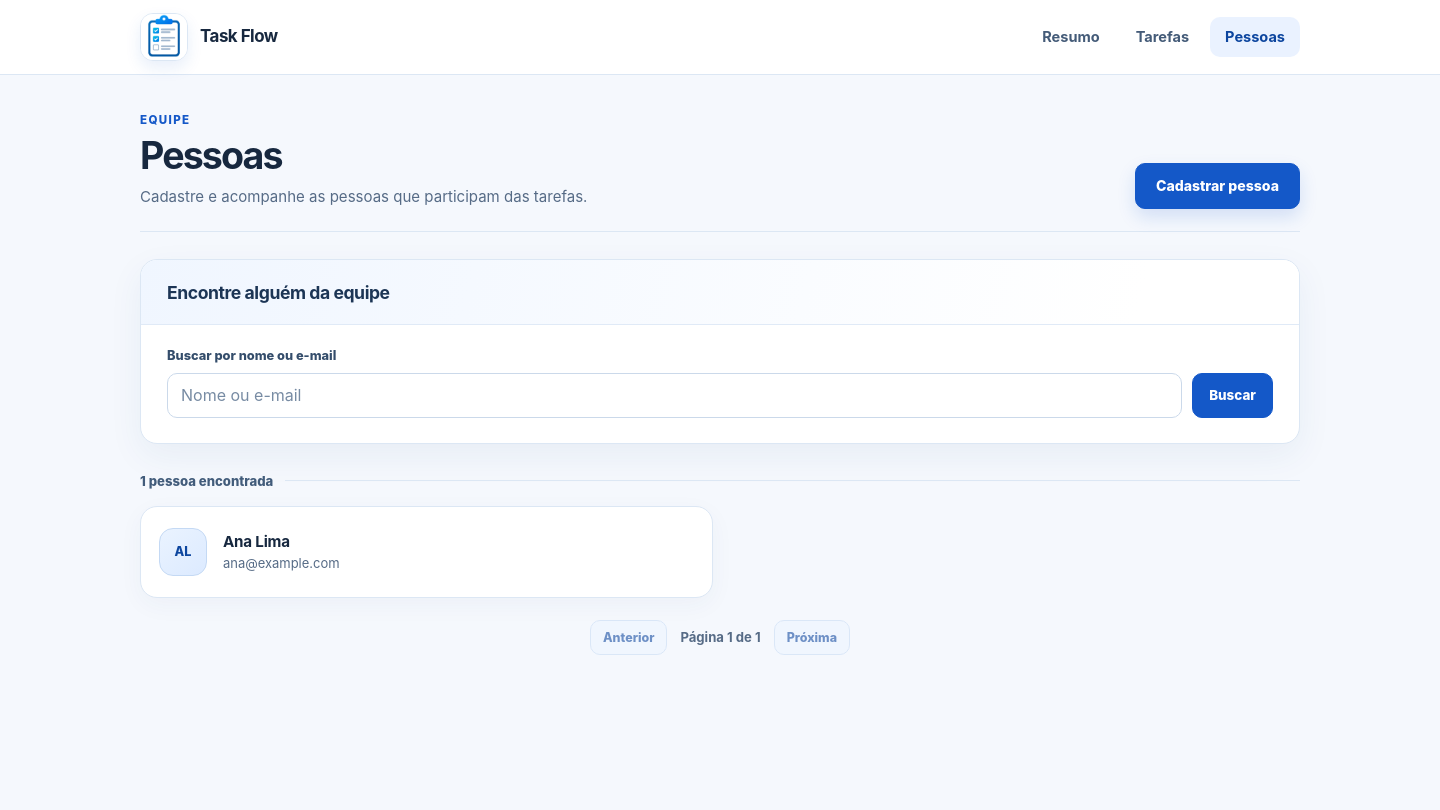
Test: diretório mantém cadastro recolhido até pedido e atualiza busca após criação
Expected: the text "ana@example.com" is shown, 223,555 -> 340,571
Expected: the field labelled "Nome completo" is not shown
Click the button "Cadastrar pessoa". click: (1217, 186)
box: 1135,163 -> 1300,209
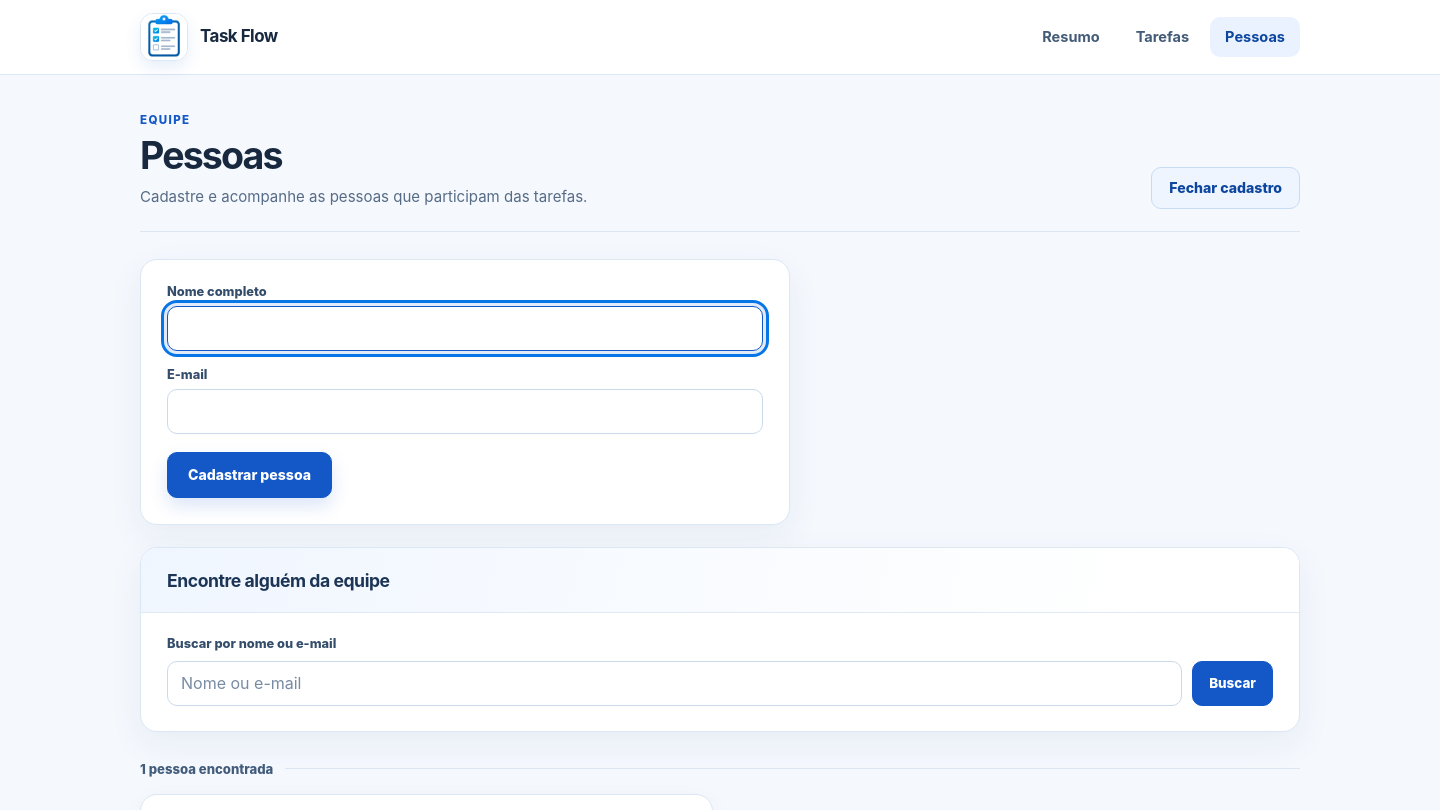
Type "Bruno Silva" into the field labelled "Nome completo". click: (465, 328)
box: 167,306 -> 763,351
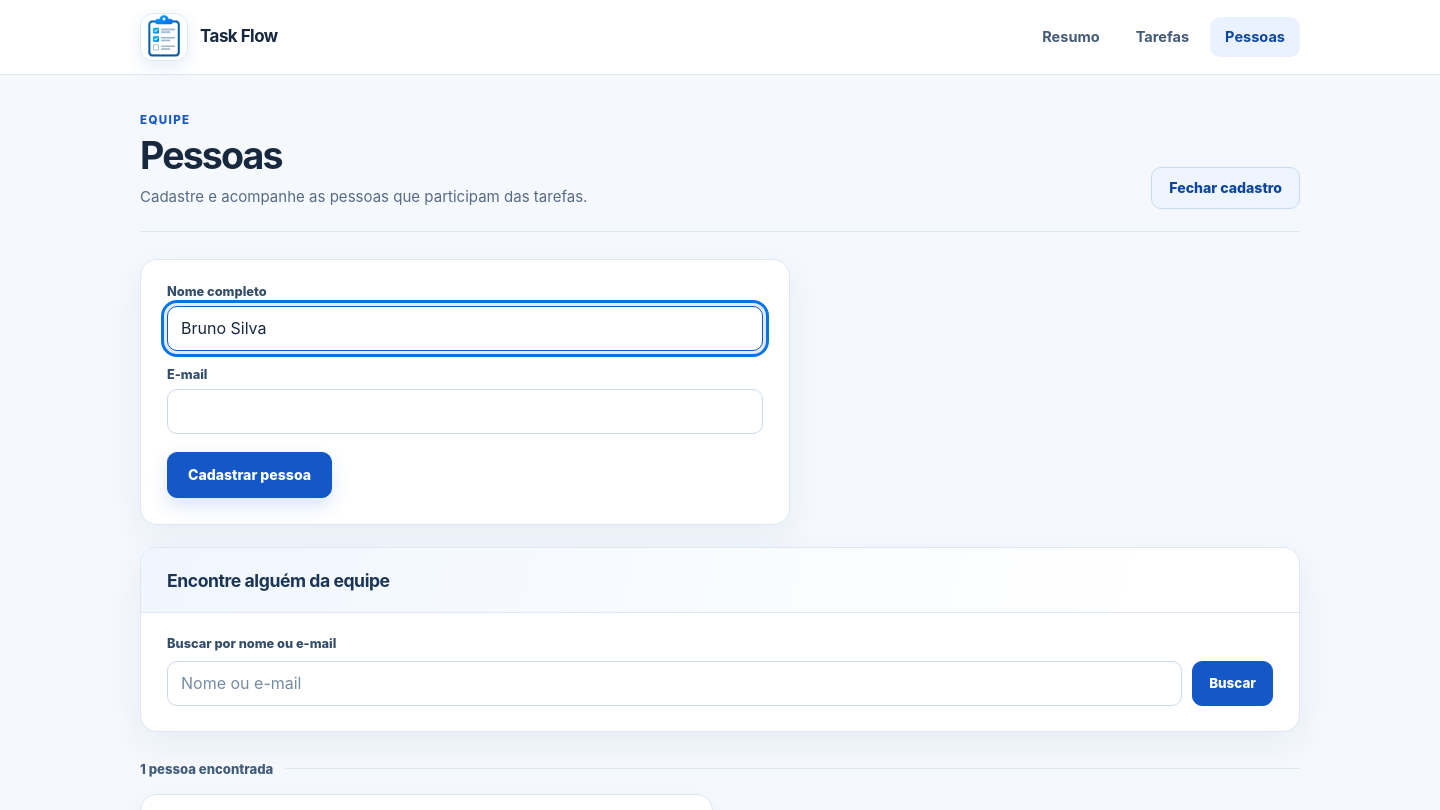
Type "bruno@example.com" into the field labelled "E-mail". click: (465, 411)
box: 167,389 -> 763,434
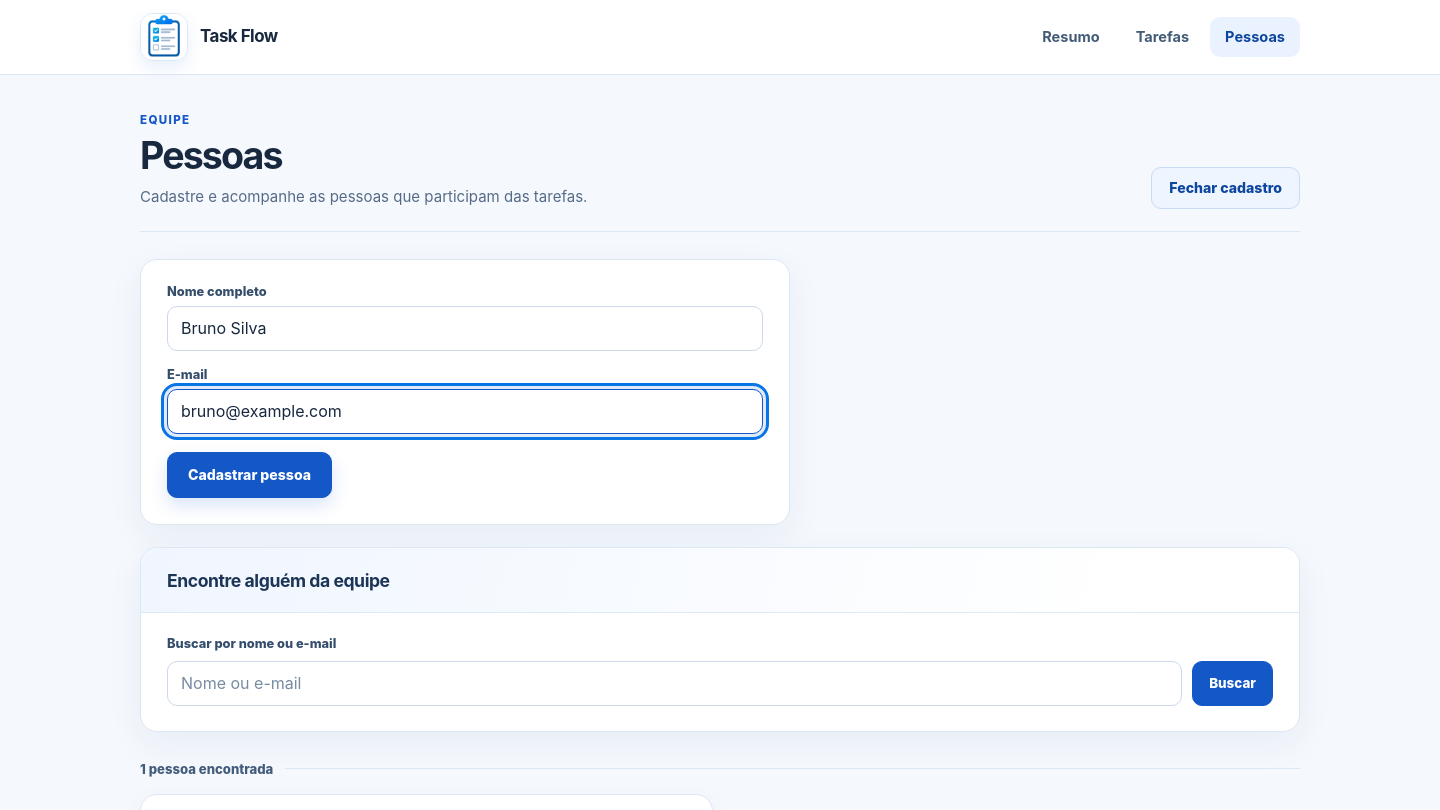
Click the button "Cadastrar pessoa". click: (250, 475)
box: 167,452 -> 332,498
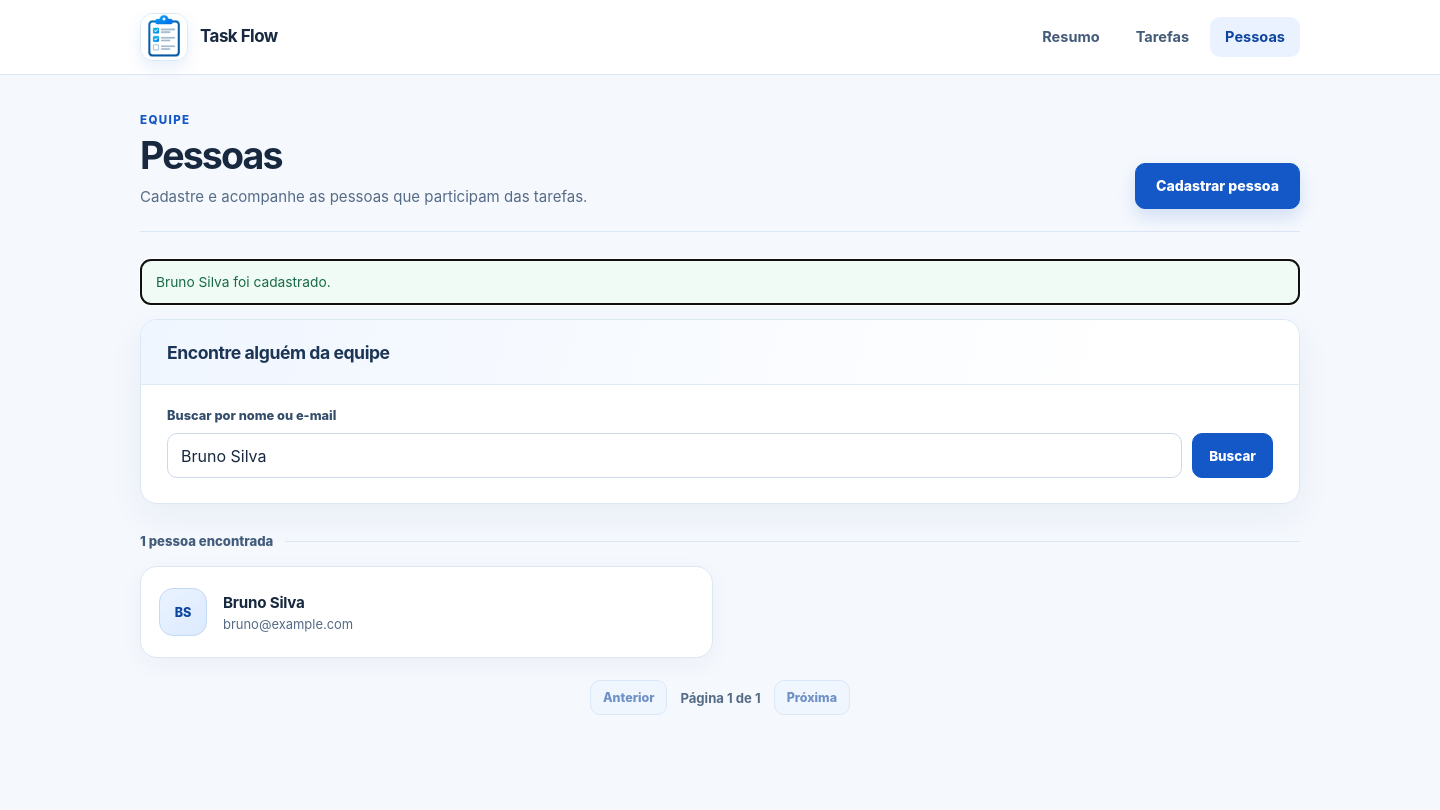
Result: the text "bruno@example.com" is shown at 223,616 -> 353,632
Result: the label "Nome completo" is gone
